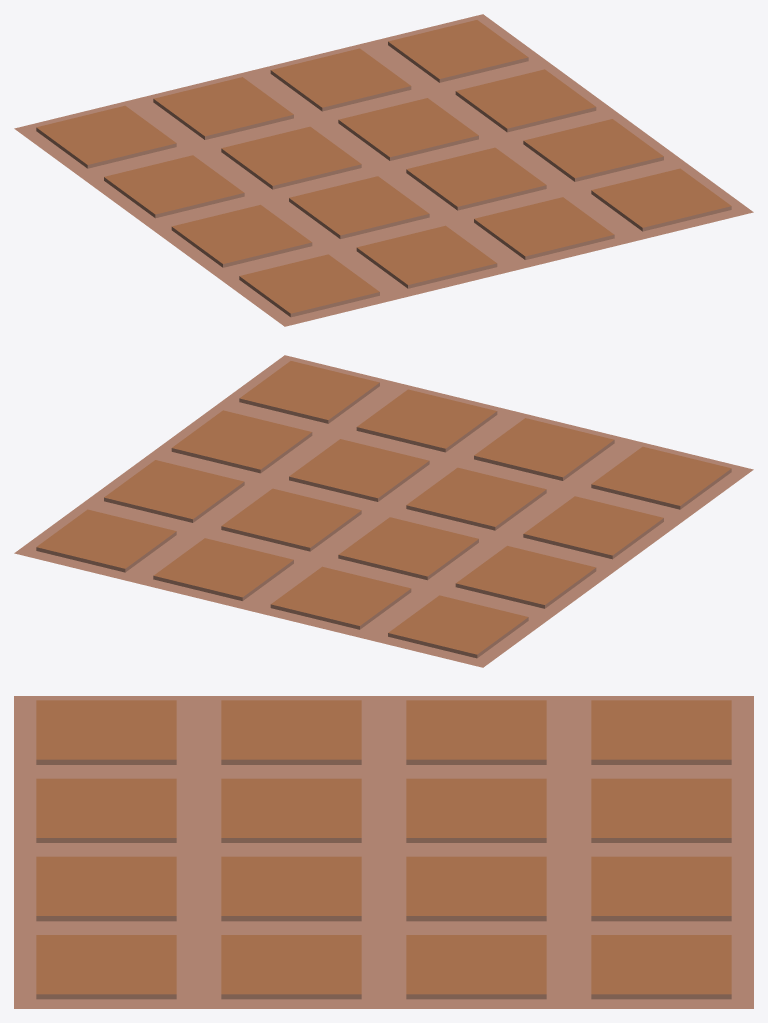
File: warmGridFloor_Small.glb
3 renders of one model, top to bottom at view 1: azimuth 30°, elevation 25°; view 2: azimuth 150°, elevation 25°; view 3: azimuth 270°, elevation 25°, orthographic. The views are drawn at different scales.
Visible parts, largest first — view 1: grid_floorCeiling_small; view 2: grid_floorCeiling_small; view 3: grid_floorCeiling_small.
Boxes of the visible parts, x1,y1,x2,y2 form: grid_floorCeiling_small: (14, 14, 753, 326); grid_floorCeiling_small: (14, 355, 753, 667); grid_floorCeiling_small: (14, 696, 753, 1008).
Size of what is drawn, in the model's own units: 2 by 0.0153 by 2.
Materials: 1 (1 with a texture image).
